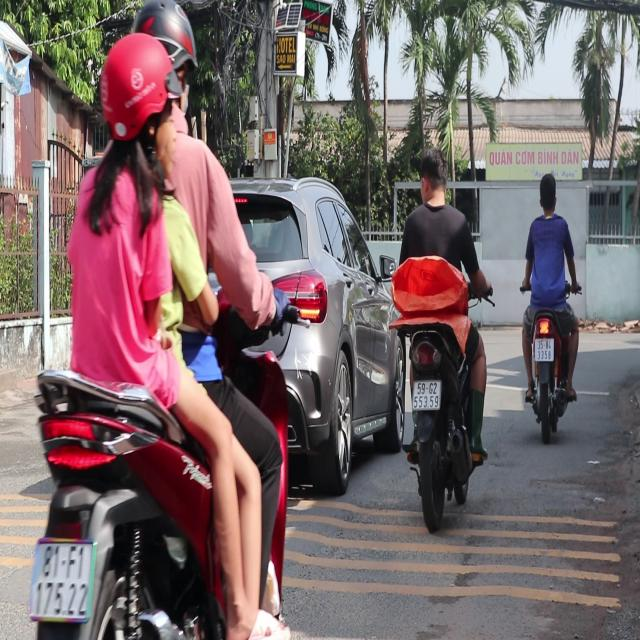helmet: (96, 34, 182, 181), (132, 3, 198, 128)
licenseplate: (23, 2, 307, 629), (383, 145, 492, 517), (517, 170, 581, 438)
motorcyclist: (417, 150, 446, 207), (537, 170, 559, 213)
nohelmet: (28, 540, 94, 616), (412, 380, 441, 410), (534, 339, 554, 360)
